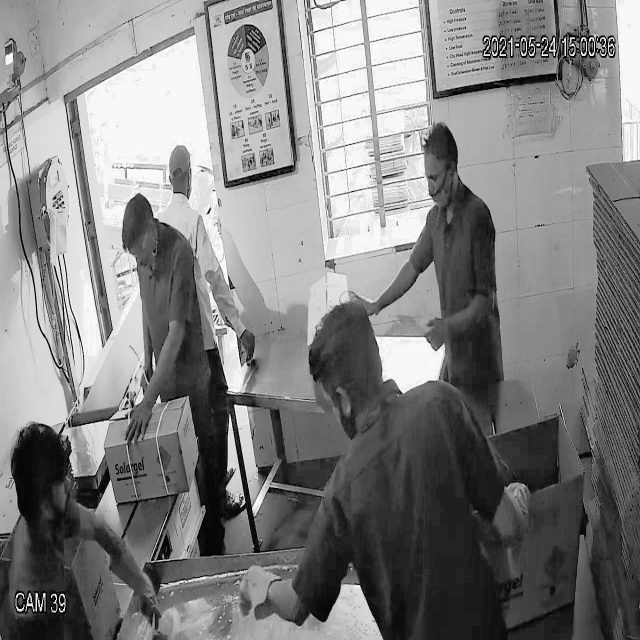Gafas: (124, 220, 155, 265), (419, 164, 455, 194)
